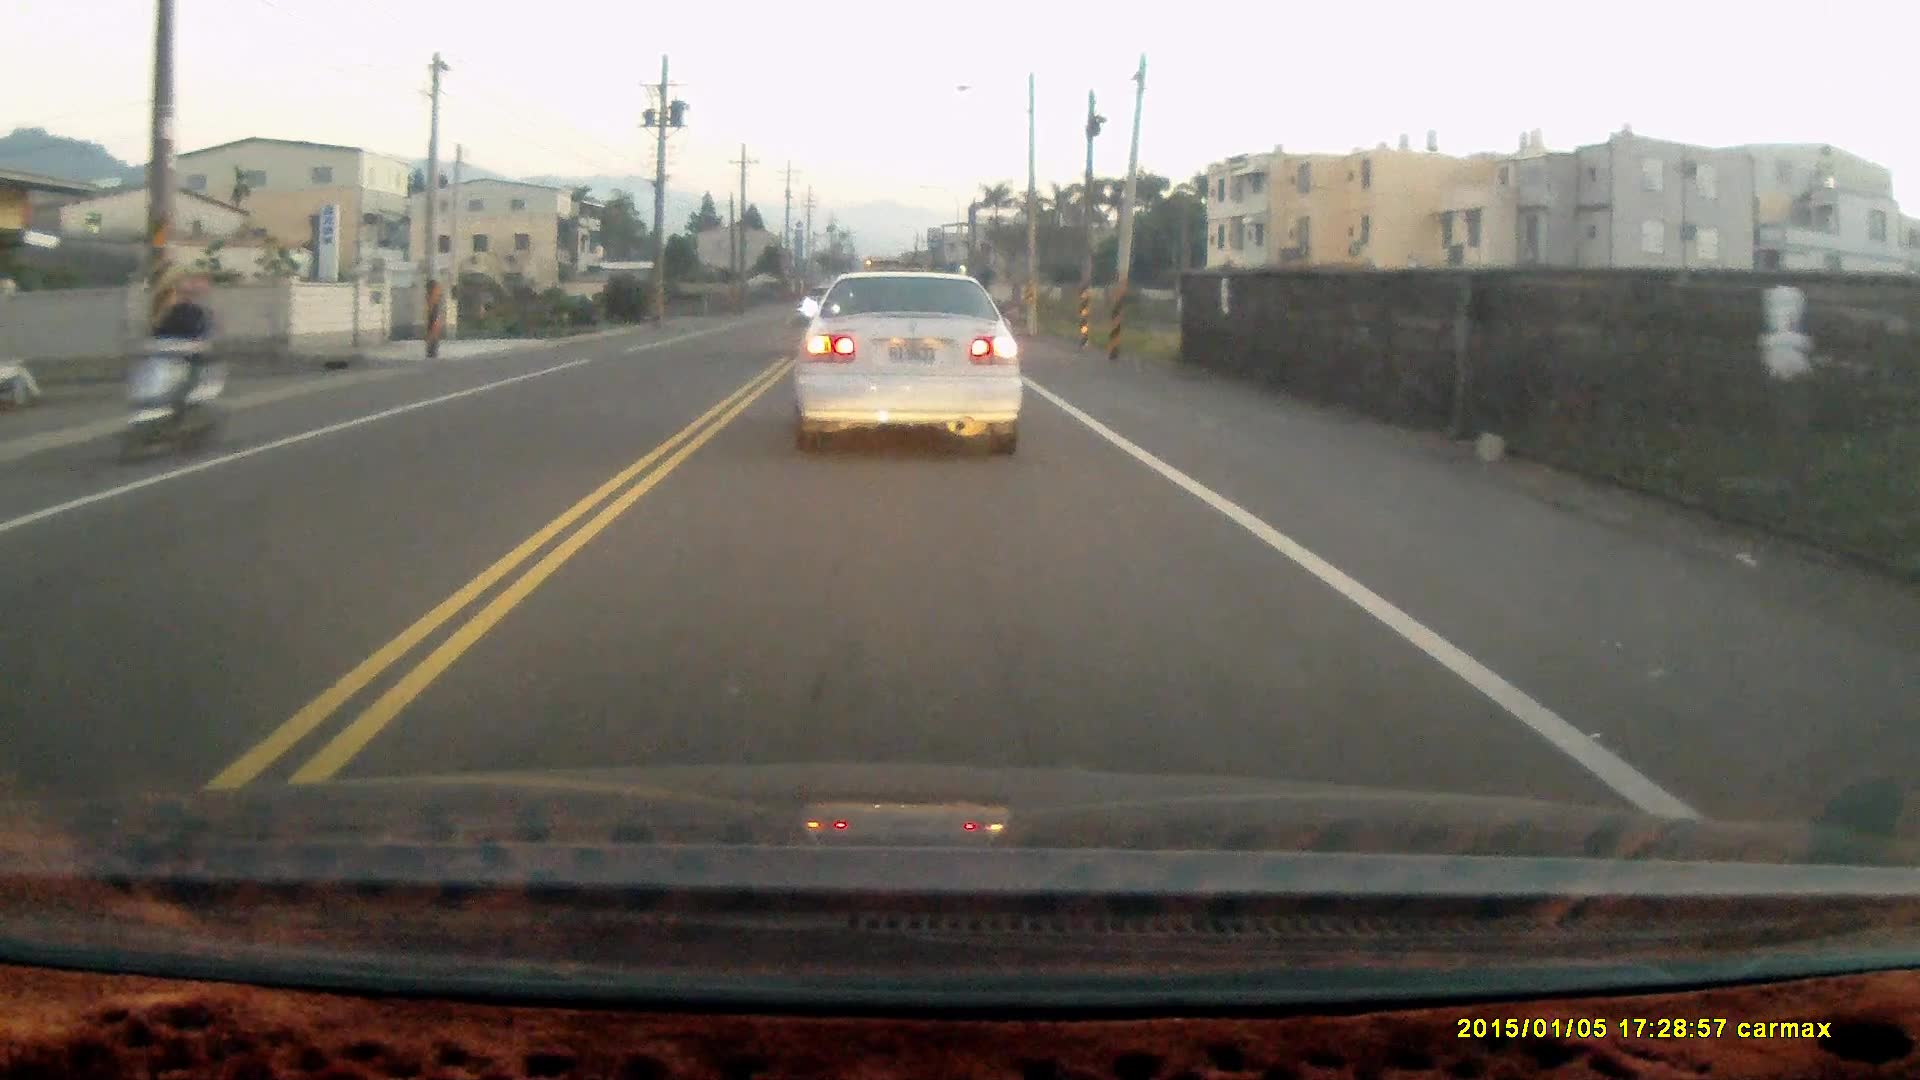rider: (113, 276, 229, 469)
vehicle: (792, 270, 1027, 460)
